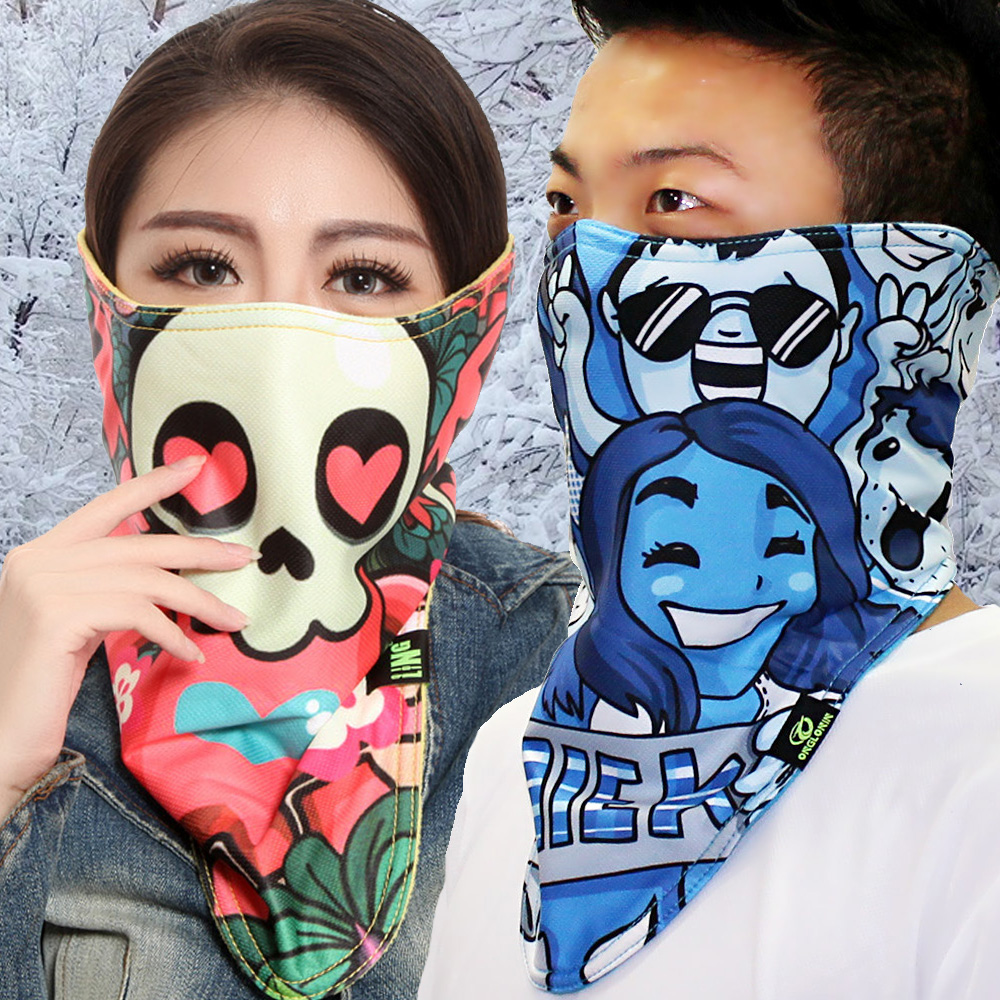face_mask: (113, 99, 444, 579), (522, 8, 855, 465)
